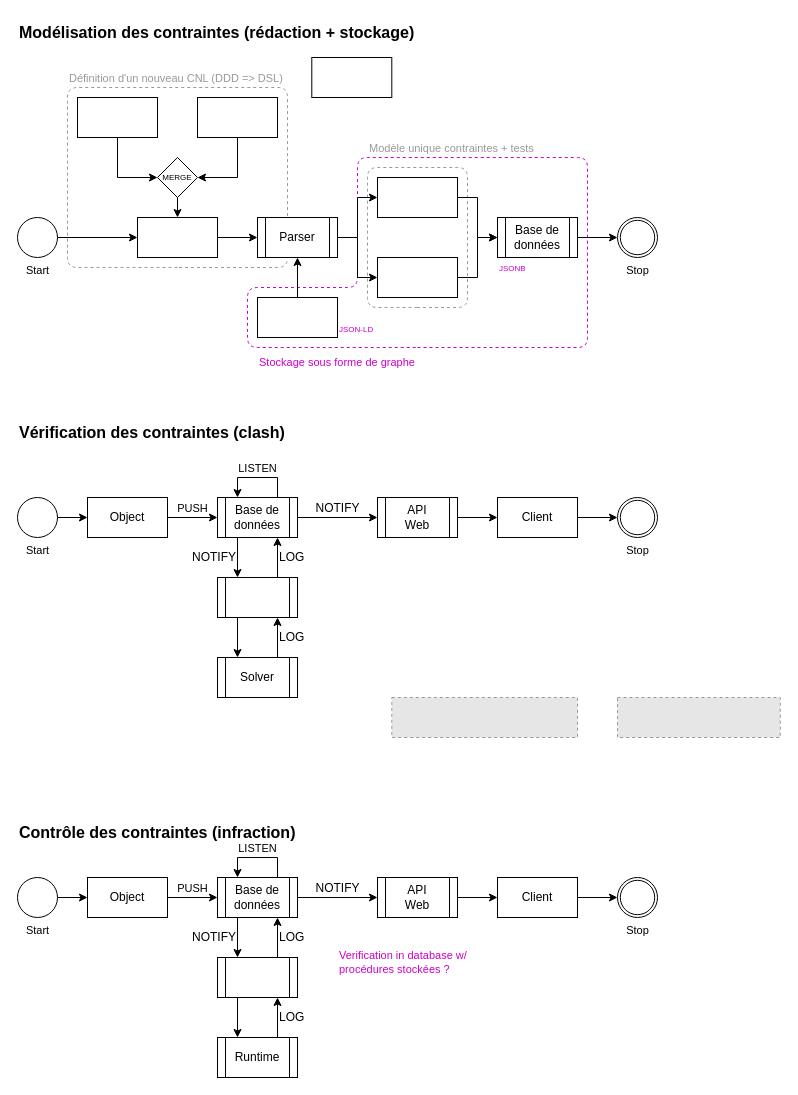
This 798x1095 diagram has some shape labels left out. Grey dashed boxes stand in for pictures. The shapes that lost their labels are listed below. From the top down, each one's box as (x1, y1, x2, y2) in pixels, then its label:
(311, 56, 392, 98): i18n
(76, 96, 158, 138): SBVR
(196, 96, 278, 138): Français Formel
(376, 176, 458, 218): Modèle de contraintes
(136, 216, 218, 258): Controlled Natural Language
(376, 256, 458, 298): Jeux de tests
(256, 296, 338, 338): Ontologies
(216, 576, 298, 618): API Solver
(216, 956, 298, 998): API Test
